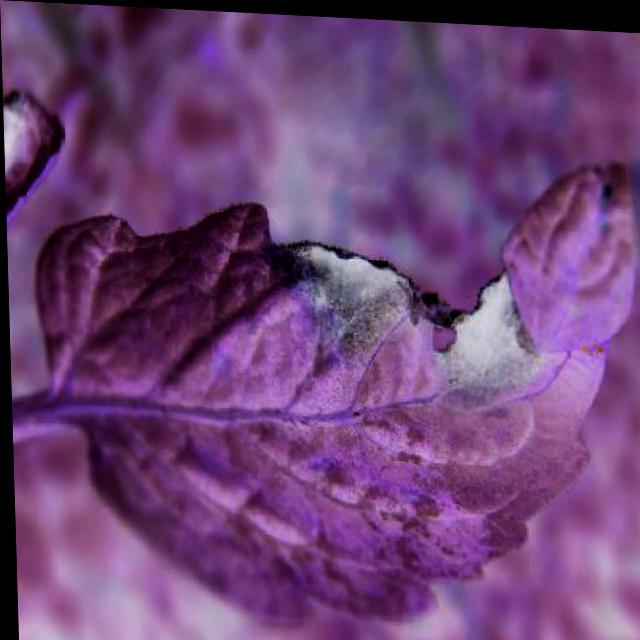Tomato mosaic virus leaf: (28, 168, 634, 639)
